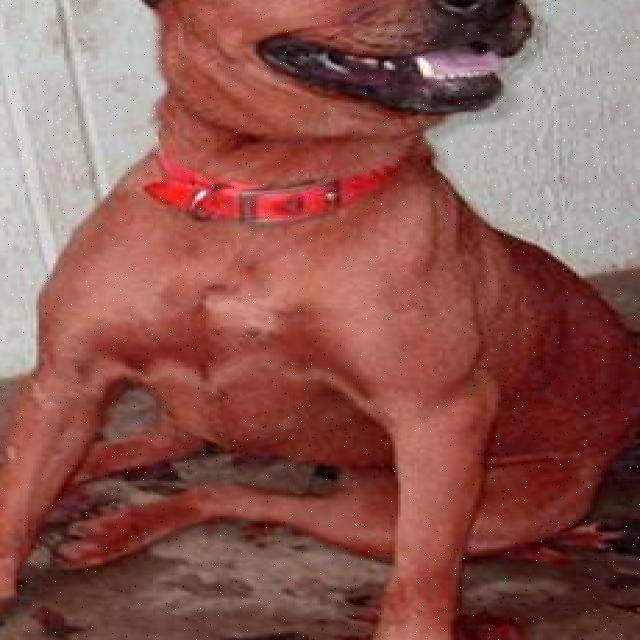Dog: (112, 0, 565, 129)
